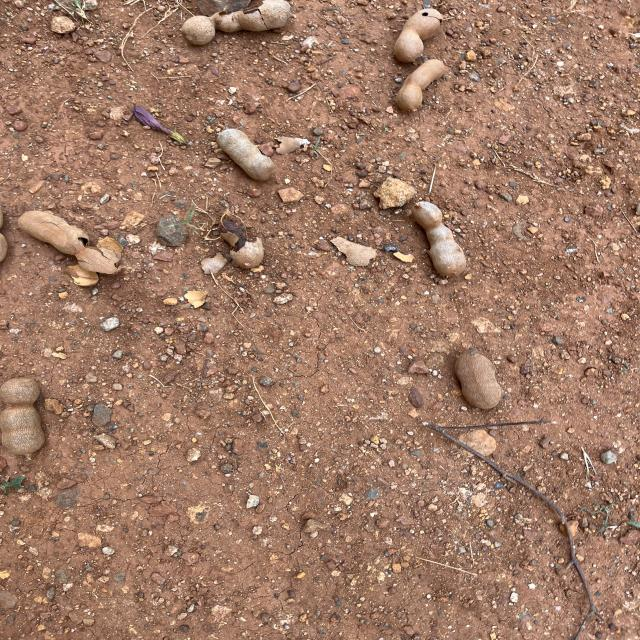tamarind: (19, 210, 122, 274), (180, 0, 292, 46), (412, 200, 470, 276), (1, 379, 47, 458), (221, 128, 277, 182), (391, 8, 443, 64), (456, 349, 502, 410), (396, 58, 445, 113), (220, 212, 265, 268)
